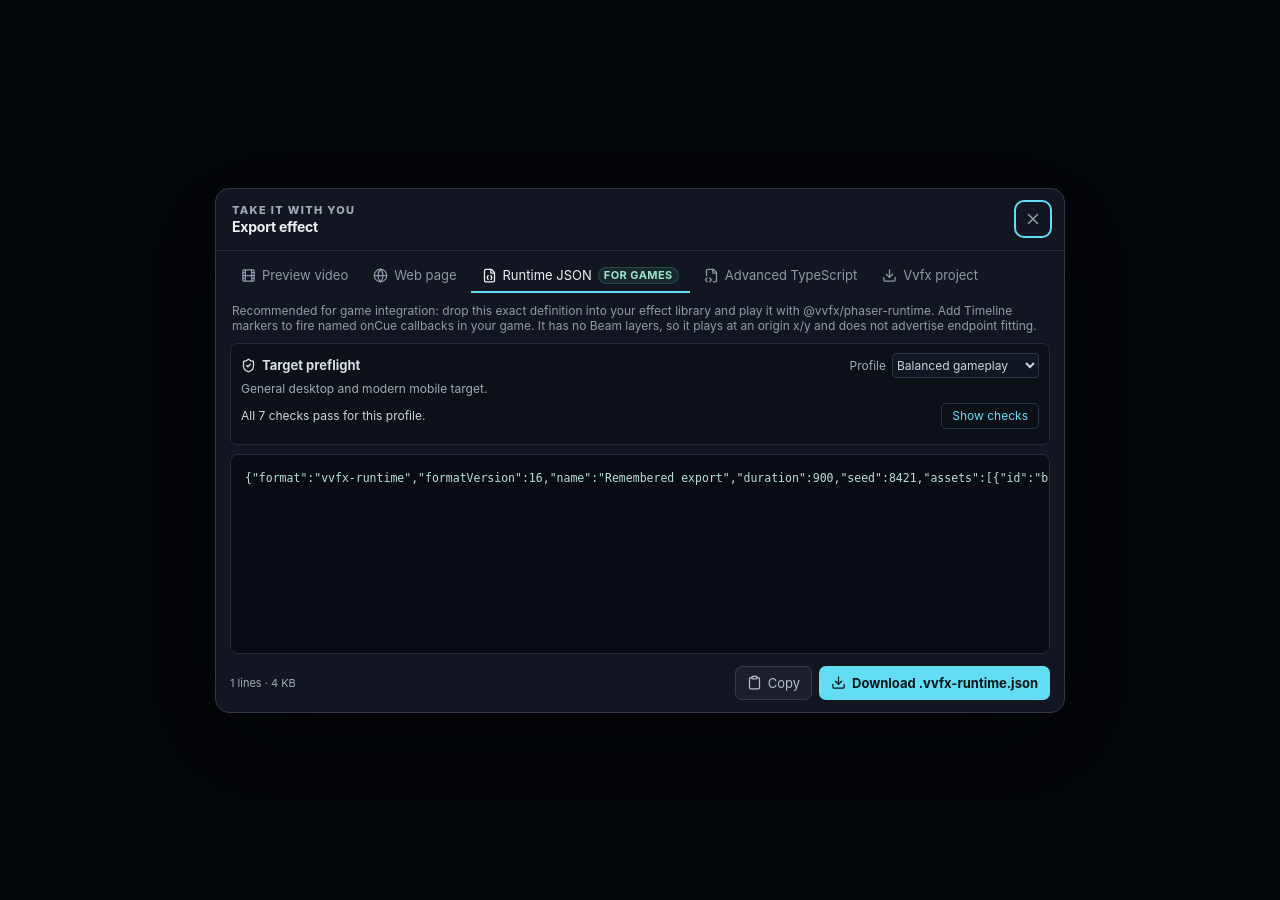
Test: dialog keyboard accessibility › reopens Export on the last tab used and collapses passing preflight checks
This screenshot has width=1280, height=900.
Click the tab "Preview video" at (295, 276), box [230,260,359,292]
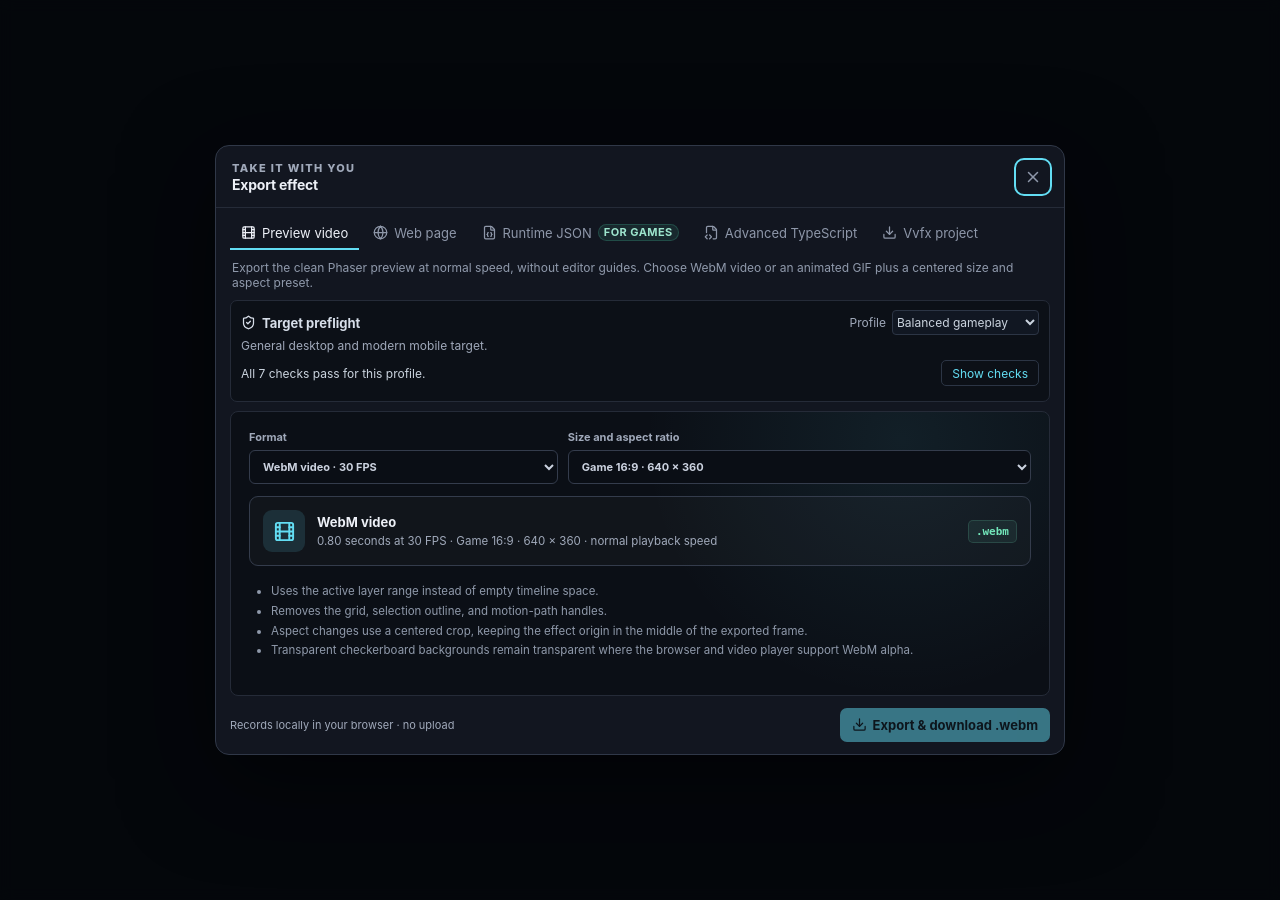
Click the button "Show checks" at (990, 373), box [941,360,1039,386]
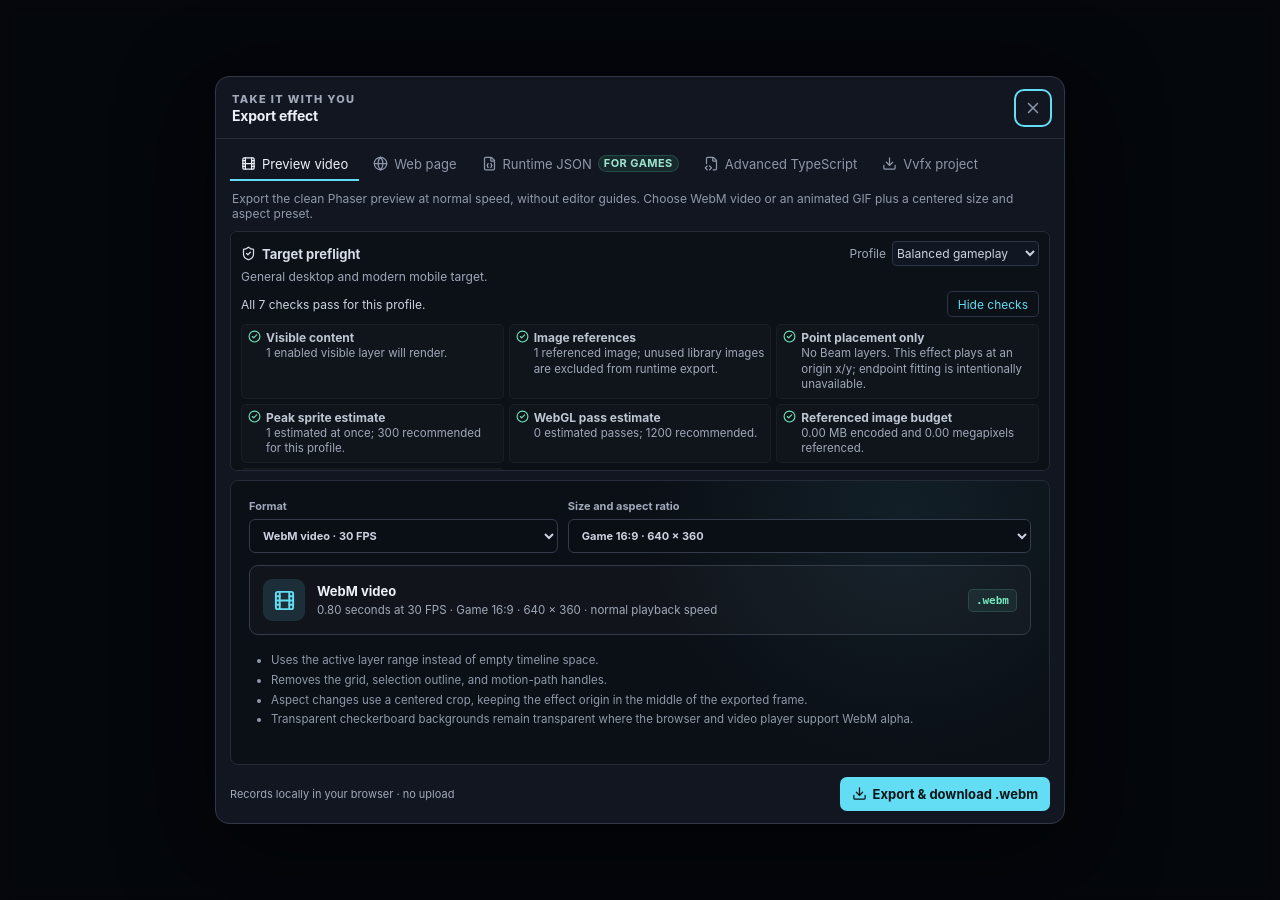
Expected: the button "Hide checks" is expanded, [947,291,1039,317]
Expected: the text "Visible content" is shown, [266,330,354,345]
